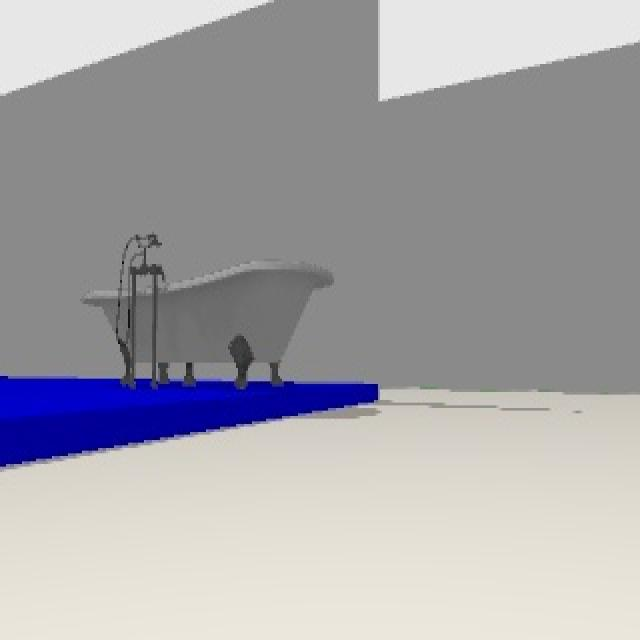bathtub: (82, 234, 334, 387)
